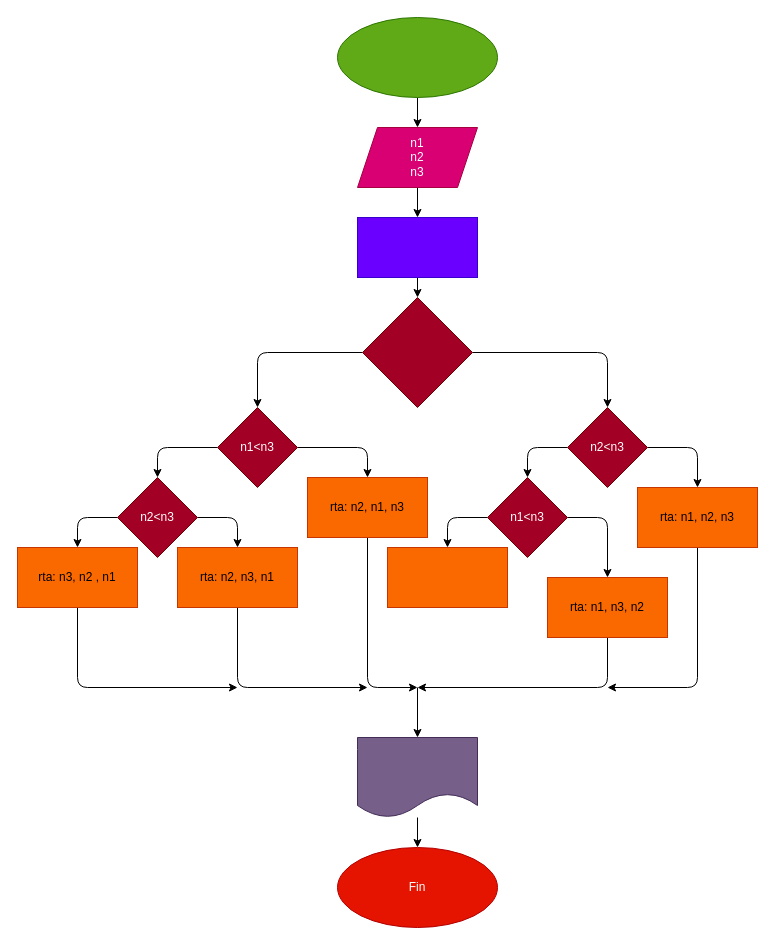
The diagram is 775 pixels wide and 945 high, and some of its shapes have lost their labels. Each missing label, with the centre of its shape:
"Inicio" belongs at pixel 417 57.
"n1<n2" belongs at pixel 417 352.
"n1<n2 n2<n3 n1<n3" belongs at pixel 417 247.
"rta" belongs at pixel 417 777.
"rta: n3, n1, n2" belongs at pixel 447 577.
